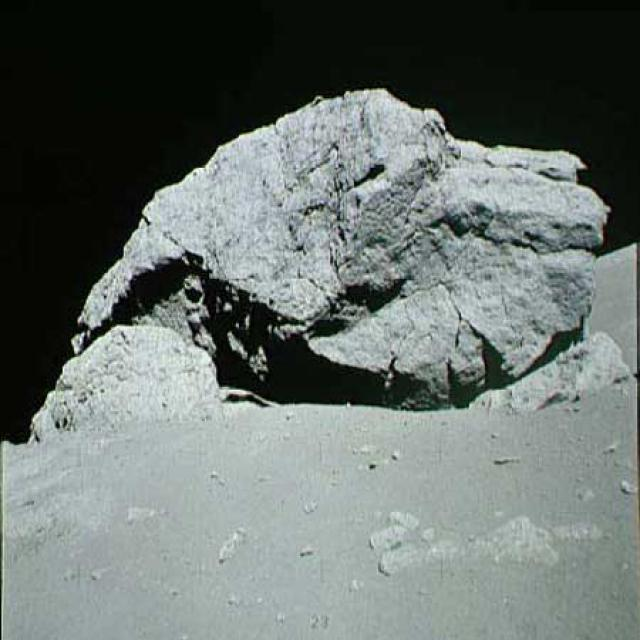rock: (70, 82, 611, 408), (13, 318, 219, 452), (444, 322, 629, 417)
